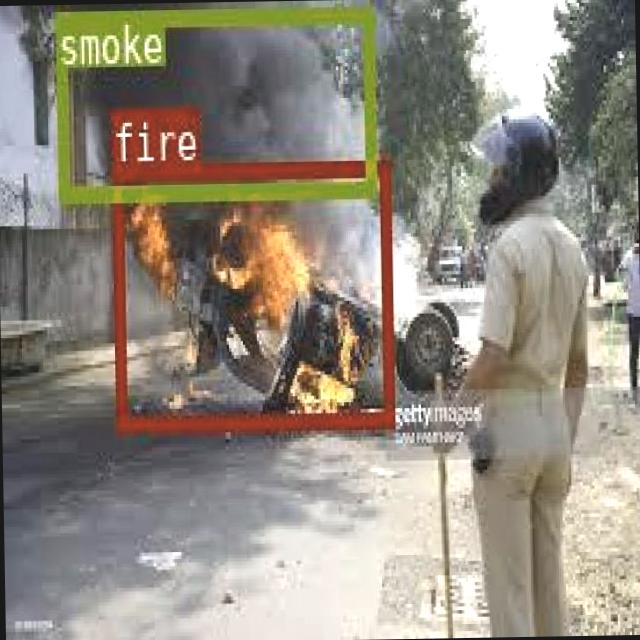fire: (109, 160, 391, 430)
smoke: (54, 4, 372, 198)
